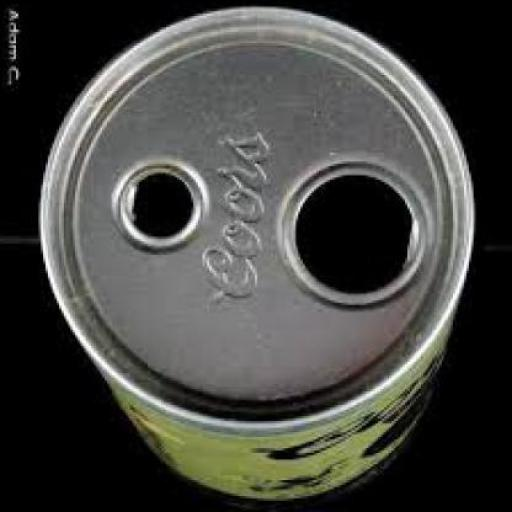metal: (45, 11, 476, 503)
